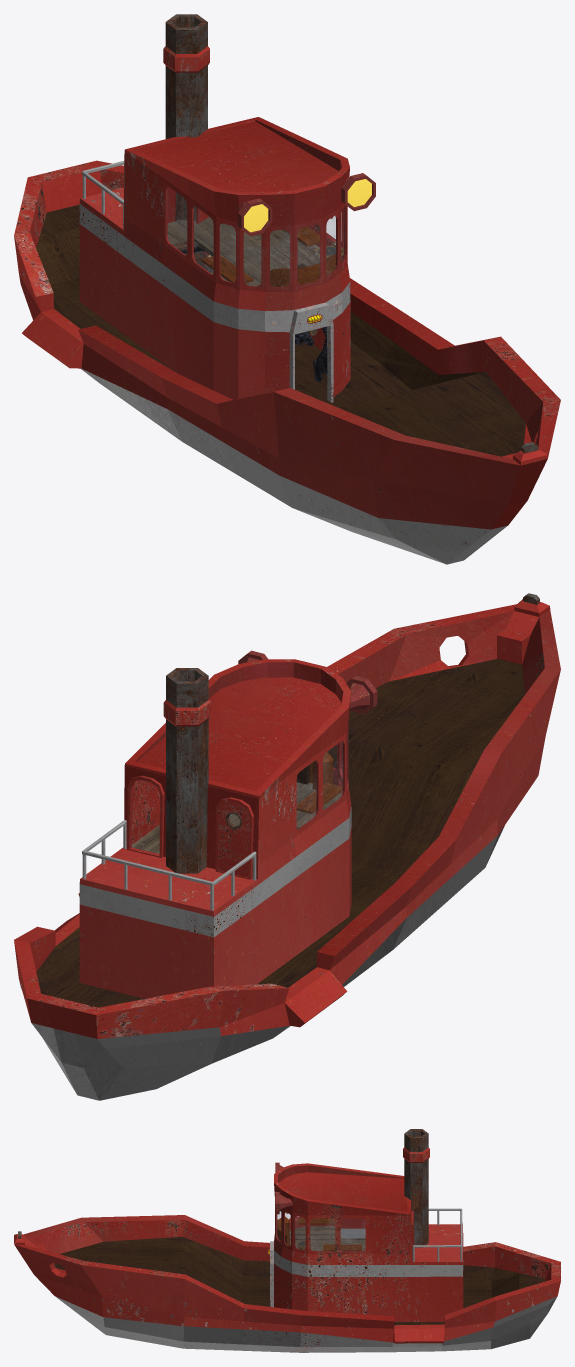
Rendered from boat_0.1.glb.
3 renders of one model, top to bottom at view 1: azimuth 30°, elevation 25°; view 2: azimuth 150°, elevation 25°; view 3: azimuth 270°, elevation 25°, orthographic. The views are drawn at different scales.
Visible parts, largest first — view 1: body-col, cabin-col, exhaust_pipe-col, floor_top-col, Cylinder, Cube.005; view 2: body-col, cabin-col, exhaust_pipe-col, top_door-col, floor_top-col, Cylinder, rails-col, Cylinder.008, Cube.006; view 3: body-col, cabin-col, exhaust_pipe-col, floor_top-col, rails-col, Cylinder.
Part boxes in pixels (x1=…): body-col: x1=14, y1=160, x2=560, y2=564; cabin-col: x1=79, y1=117, x2=350, y2=402; exhaust_pipe-col: x1=163, y1=14, x2=213, y2=272; floor_top-col: x1=167, y1=216, x2=341, y2=286; Cylinder: x1=237, y1=173, x2=375, y2=236; Cube.005: x1=270, y1=254, x2=335, y2=286; body-col: x1=14, y1=593, x2=560, y2=1100; cabin-col: x1=79, y1=659, x2=351, y2=998; exhaust_pipe-col: x1=163, y1=668, x2=210, y2=873; top_door-col: x1=218, y1=801, x2=252, y2=879; floor_top-col: x1=131, y1=782, x2=341, y2=853; Cylinder: x1=238, y1=650, x2=377, y2=714; rails-col: x1=82, y1=820, x2=256, y2=885; Cylinder.008: x1=82, y1=824, x2=256, y2=910; Cube.006: x1=296, y1=782, x2=342, y2=813; body-col: x1=14, y1=1215, x2=560, y2=1352; cabin-col: x1=270, y1=1163, x2=463, y2=1321; exhaust_pipe-col: x1=403, y1=1129, x2=429, y2=1247; floor_top-col: x1=289, y1=1226, x2=365, y2=1250; rails-col: x1=412, y1=1208, x2=462, y2=1247; Cylinder: x1=275, y1=1162, x2=292, y2=1214.
Bounding box in the file's own units: 9.7 × 11.9 × 28.37.
Materials: 22 (18 with a texture image).
